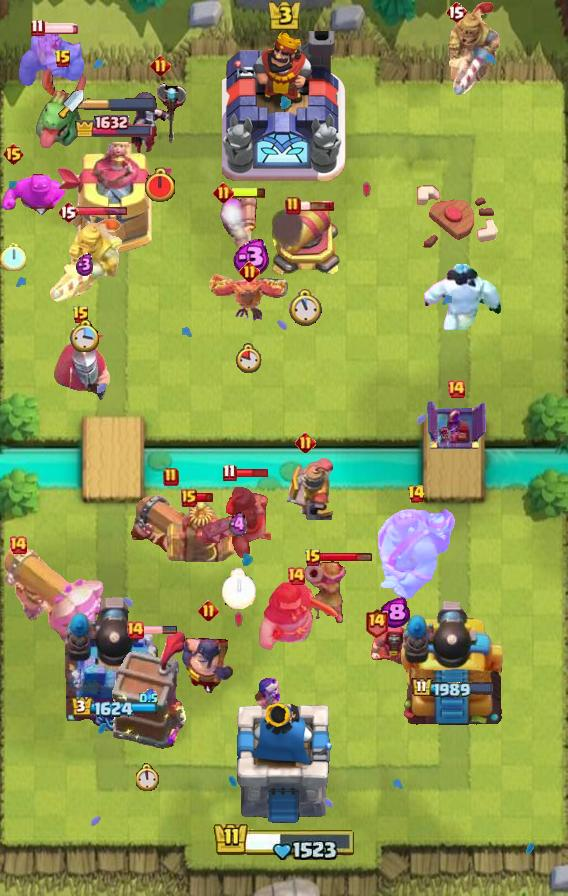bar: (55, 142, 173, 256)
battle-healer: (127, 492, 215, 564)
bomb-tower: (304, 555, 346, 625)
bowler: (369, 621, 419, 671)
clock: (212, 818, 356, 860)
dart-goblin: (109, 631, 187, 751)
earthquake: (277, 458, 333, 520)
electro-spirit: (229, 239, 272, 275), (378, 597, 410, 629), (229, 511, 247, 539), (76, 252, 94, 276), (138, 689, 157, 707)
electro-wizard: (35, 67, 91, 151)
elixir: (220, 567, 256, 609), (143, 167, 177, 204), (289, 289, 322, 327), (70, 320, 100, 352), (236, 343, 262, 373), (0, 241, 26, 270), (136, 763, 160, 791)
emote: (320, 553, 373, 564), (76, 206, 128, 217), (231, 186, 267, 199), (42, 22, 80, 34), (299, 200, 335, 212), (234, 467, 270, 479), (142, 625, 178, 635), (194, 493, 214, 504)
furnace: (0, 545, 110, 651)
goblin: (255, 678, 281, 712)
goblin-brawler: (167, 497, 237, 565)
golden-knight: (208, 273, 290, 323)
ice-spirit-evolution-symbol: (424, 398, 488, 452)
inferno-dragon: (199, 475, 277, 565)
king-tower: (222, 31, 346, 181), (235, 703, 333, 826)
king-tower-bar: (84, 97, 156, 111)
lava-hound: (375, 506, 457, 602)
monk: (180, 624, 236, 696)
rage: (422, 264, 502, 330)
ram-rider: (46, 215, 124, 305), (444, 0, 504, 100)
rascal-boy: (130, 81, 190, 157)
royal-hog: (254, 579, 338, 655)
royal-recruit: (269, 206, 341, 280)
selected: (411, 676, 495, 700), (74, 112, 154, 137), (70, 696, 157, 718)
text: (364, 606, 389, 637), (3, 142, 26, 166), (445, 0, 467, 24), (57, 200, 79, 224), (149, 56, 170, 77), (213, 182, 234, 203), (240, 261, 261, 282), (295, 432, 316, 453), (197, 600, 218, 621), (446, 379, 466, 399), (8, 535, 28, 555), (286, 566, 306, 586), (125, 620, 145, 640), (406, 484, 425, 504), (54, 49, 72, 69), (72, 305, 90, 325), (304, 548, 322, 568), (285, 196, 301, 216), (163, 467, 179, 487), (181, 489, 197, 507), (223, 463, 238, 482), (30, 19, 45, 37)
tombstone: (214, 190, 258, 252)
tornado: (0, 166, 70, 224)
tower-bar: (397, 595, 509, 731), (65, 593, 163, 731)
valkyrie-evolution: (19, 33, 85, 93)
wall-breaker-evolution: (51, 324, 111, 404)
